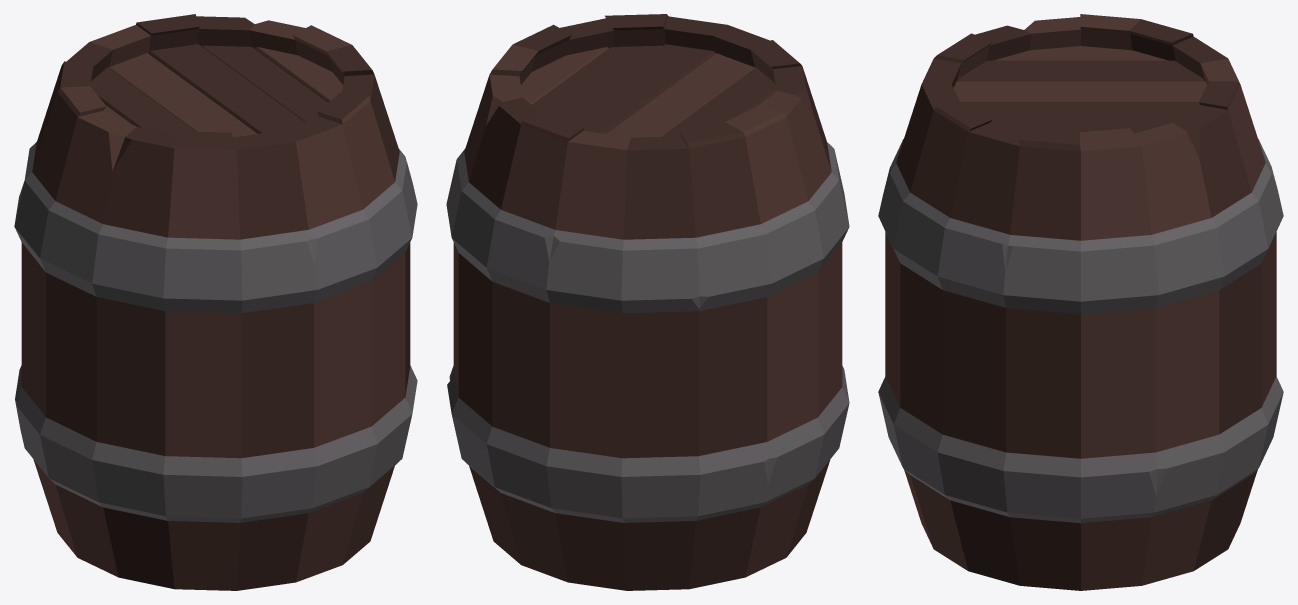
File: Barril.fbx
3 views of the same model, side by side, from view 1: azimuth 30°, elevation 25°; view 2: azimuth 150°, elevation 25°; view 3: azimuth 270°, elevation 25° (orthographic).
Parts seen in each view (by area): view 1: Barril; view 2: Barril; view 3: Barril.
Boxes of the visible parts, left/top/right/bottom form: Barril: left=14, top=14, right=417, bottom=590; Barril: left=446, top=14, right=849, bottom=590; Barril: left=878, top=14, right=1283, bottom=590.
Size of the model in its own units: 68.5 by 82.91 by 68.5.
